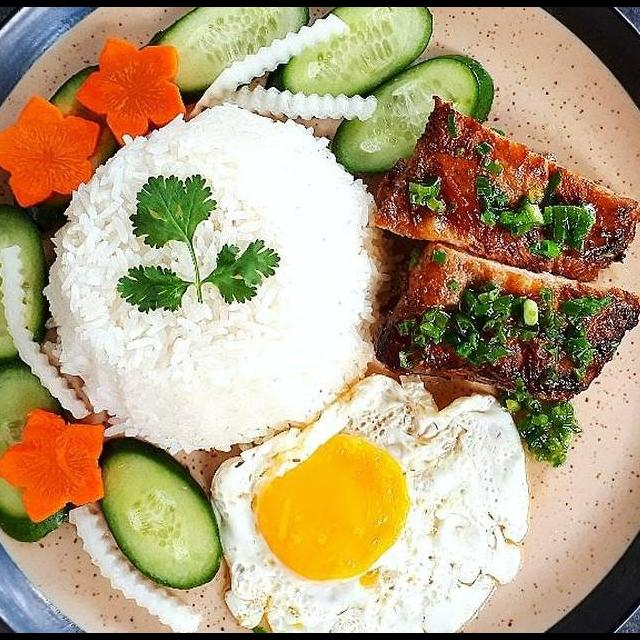com: (39, 98, 392, 458)
com suon trung: (0, 49, 640, 633)
dua chua: (187, 11, 383, 129), (0, 242, 106, 433), (65, 501, 204, 633), (71, 35, 191, 151), (0, 405, 109, 527), (0, 91, 101, 210)
suon: (367, 93, 640, 411)
trung: (207, 369, 532, 633)
